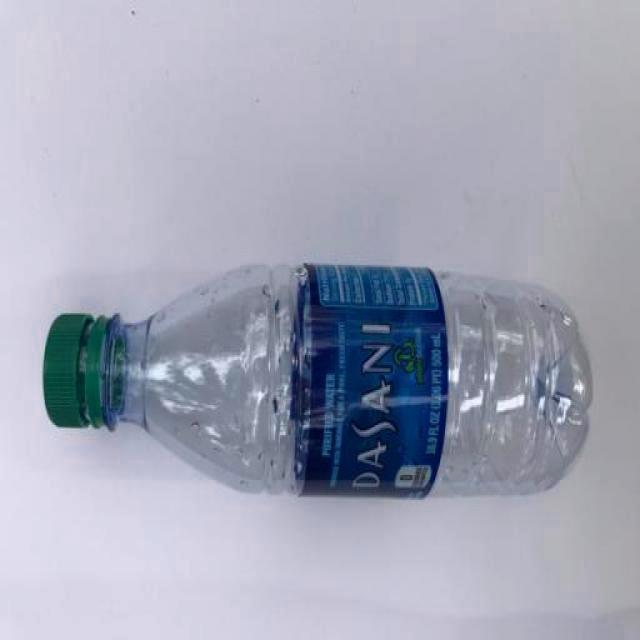bottle: (41, 263, 594, 500)
